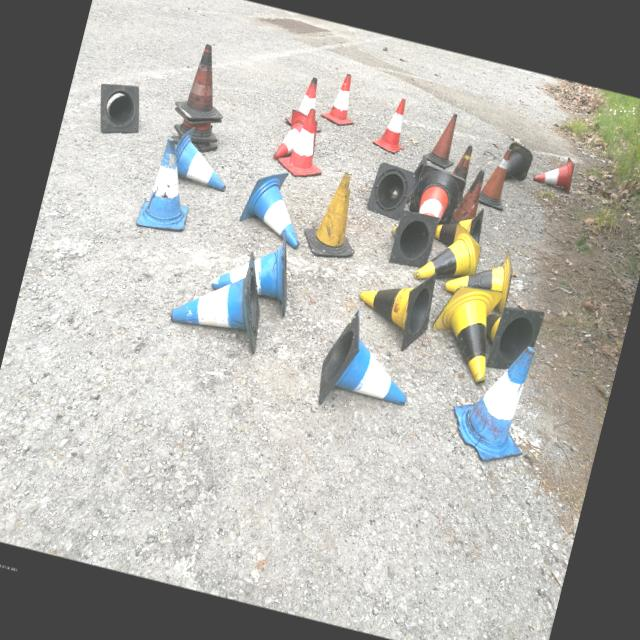blue_cone: (442, 332, 546, 469), (165, 236, 278, 354), (312, 304, 423, 424), (208, 216, 304, 317), (134, 134, 203, 236), (236, 164, 315, 250), (168, 124, 238, 192)
large_orange_cone: (408, 162, 468, 222)
orange_cone: (274, 104, 336, 182), (272, 107, 323, 168), (282, 72, 332, 132), (370, 94, 416, 155), (319, 70, 364, 128), (532, 150, 576, 193)
unknown_cone: (299, 164, 372, 263), (172, 40, 238, 126), (90, 77, 148, 140), (365, 160, 415, 222), (421, 108, 465, 170), (477, 145, 517, 210), (449, 165, 486, 229), (501, 140, 535, 183), (451, 142, 474, 180)
yellow_cone: (421, 276, 506, 386), (348, 256, 441, 355), (441, 237, 519, 314), (412, 215, 486, 292), (474, 298, 544, 377), (384, 208, 440, 270), (432, 198, 487, 252)
